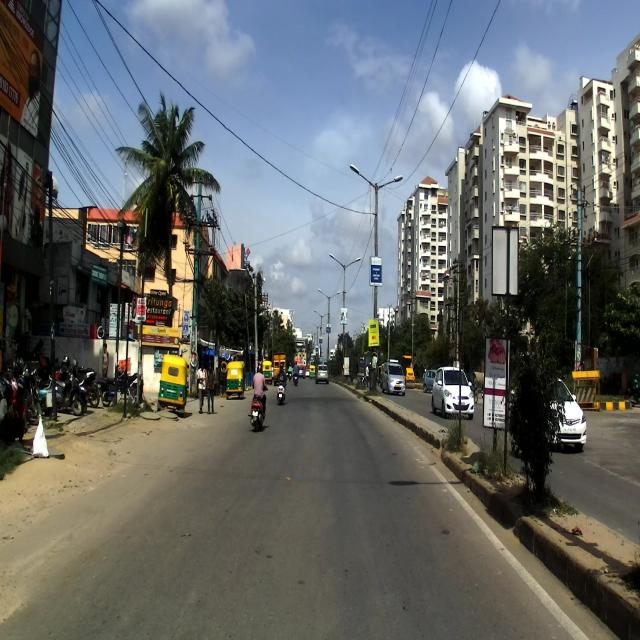autorickshaw: (158, 352, 188, 416)
car: (430, 364, 475, 418)
scooter: (248, 380, 269, 439), (276, 374, 286, 404)
